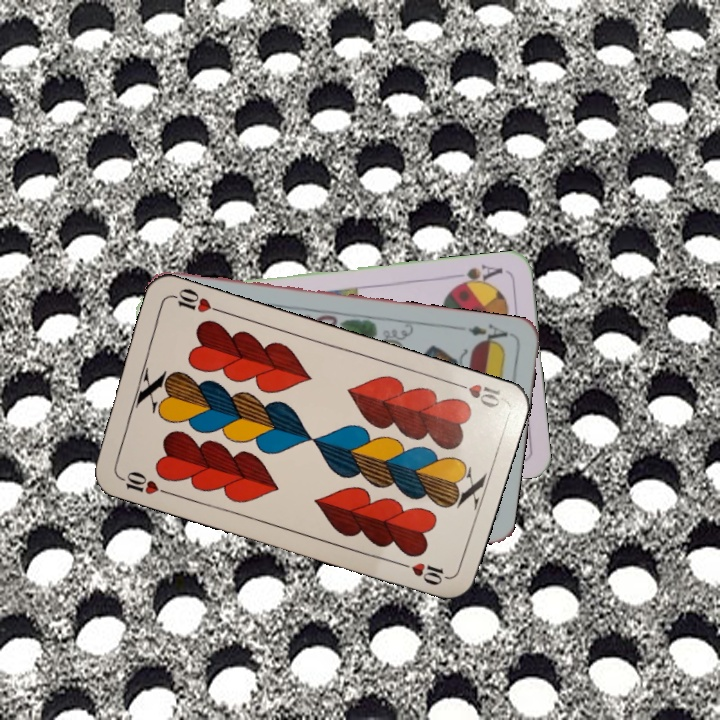EA: (464, 320, 514, 349)
H10: (447, 376, 506, 411), (114, 467, 171, 497)
SA: (449, 260, 506, 290)
